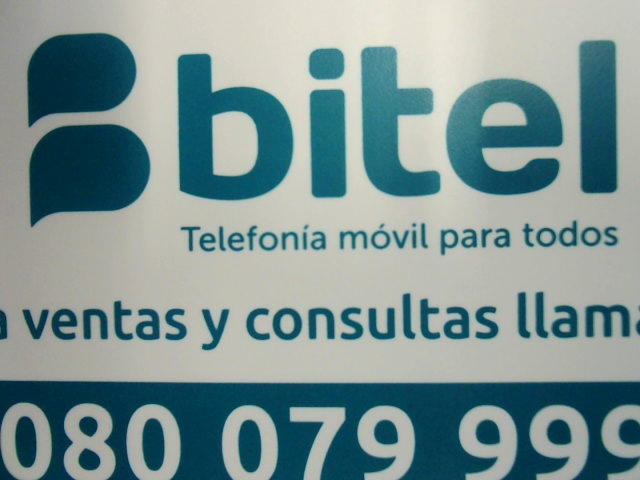BE_bitel: (20, 25, 620, 224)
